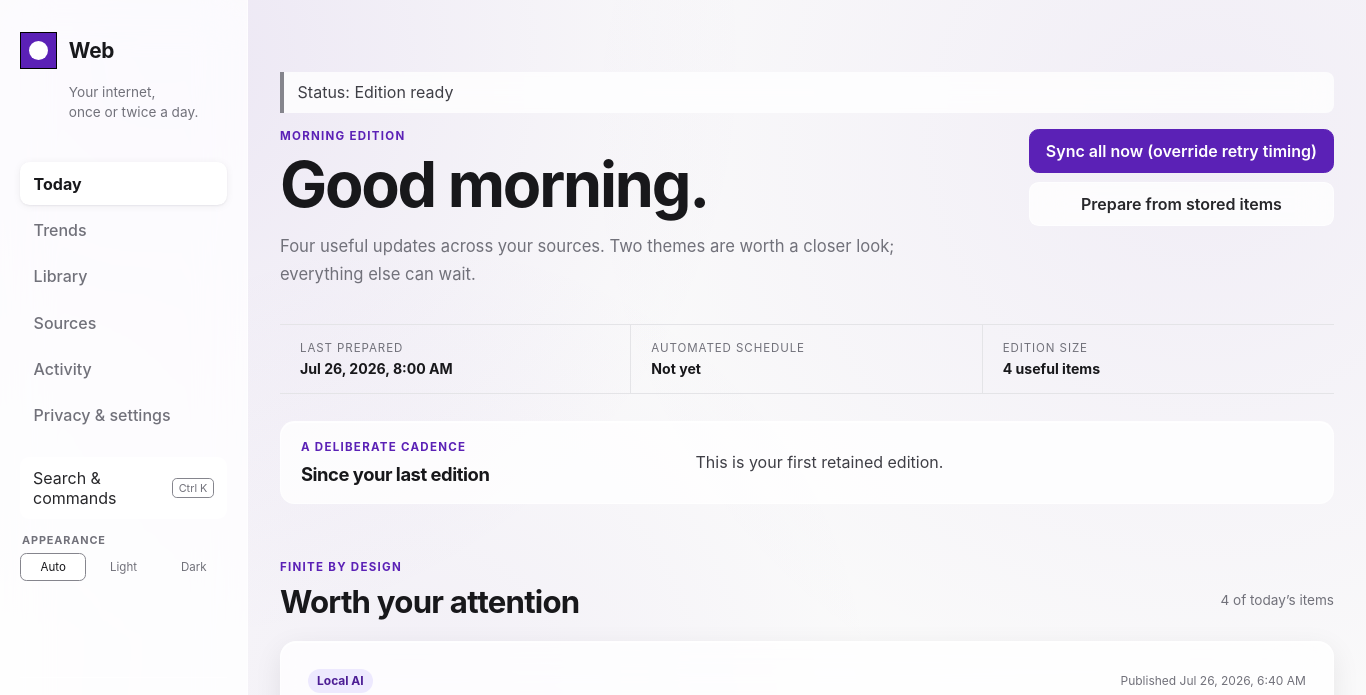
Scenario: calm dashboard › explains local model and connector boundaries
Check: the heading "Good morning." is shown, box [280,146,708,222]
Click the button "Privacy & settings".
click(124, 416)  # box [20,394,227,437]
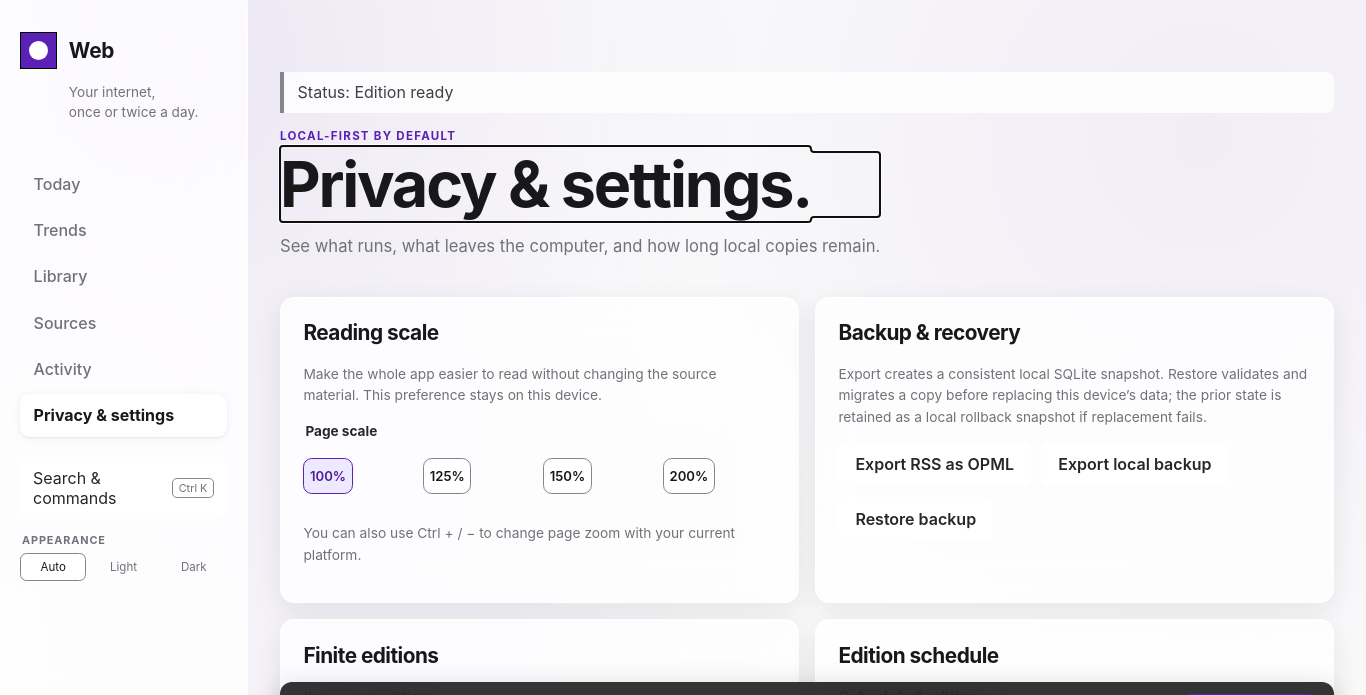
Check: the heading "Privacy & settings." is shown, box [280,152,880,217]
Click the button "Sources".
click(124, 323)  # box [20,302,227,344]
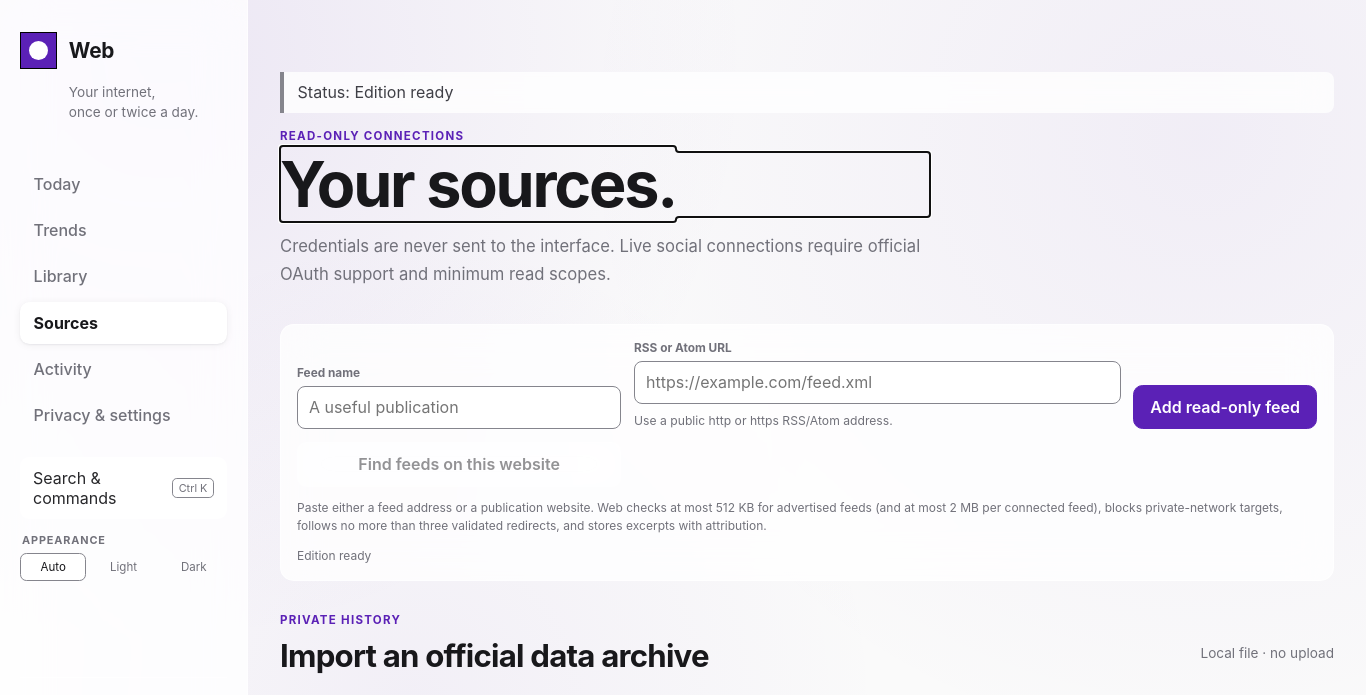
Check: the button "Add read-only feed" is shown, box [1133,385,1317,429]
